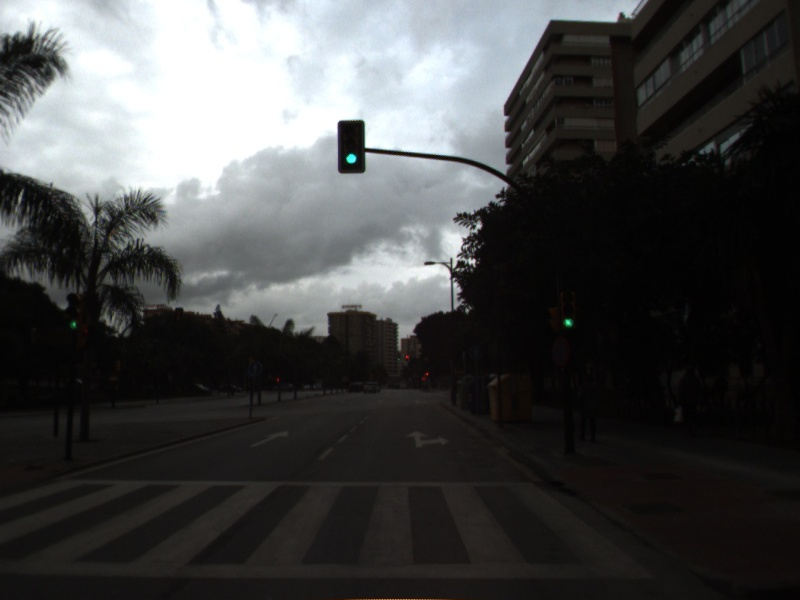STRAIGHT: (247, 428, 291, 450)
STRAIGHT_RIGHT: (404, 428, 452, 450)
